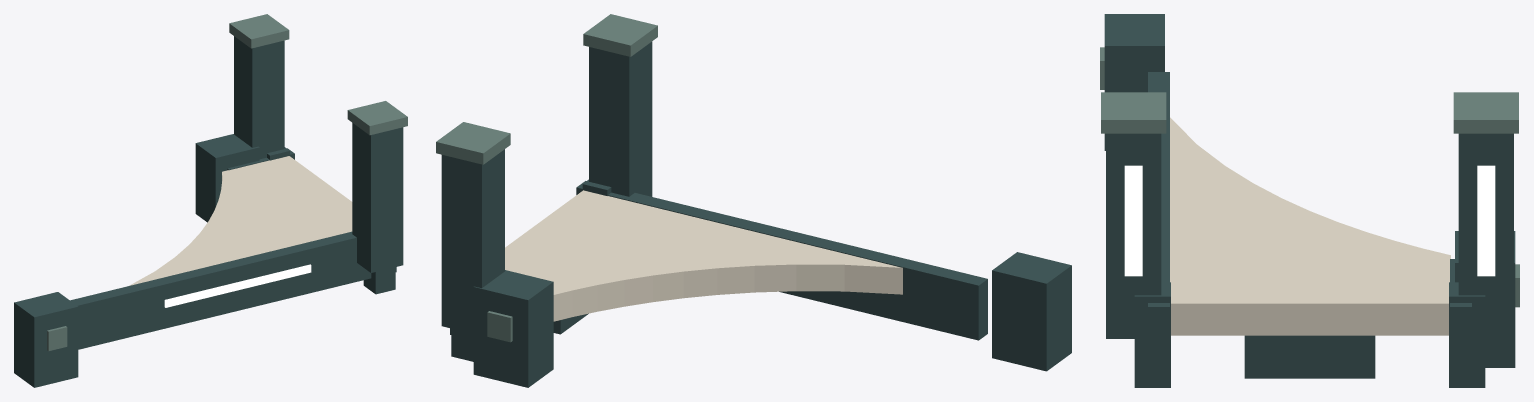
File: Pier_Angled_45_Switch_lab.glb
The picture shows the model from 3 angles, left to right: view 1: azimuth 30°, elevation 25°; view 2: azimuth 150°, elevation 25°; view 3: azimuth 270°, elevation 25°; orthographic projection. The views are drawn at different scales.
Parts seen in each view (by area): view 1: Pier_Angled_45_Switch; view 2: Pier_Angled_45_Switch; view 3: Pier_Angled_45_Switch.
Part boxes in pixels (x1,y1,x2,y2): Pier_Angled_45_Switch: (14,14,407,387); Pier_Angled_45_Switch: (436,14,1071,387); Pier_Angled_45_Switch: (1100,14,1519,387).
Bounding box in the file's own units: 6.42 × 2.95 × 4.17.
